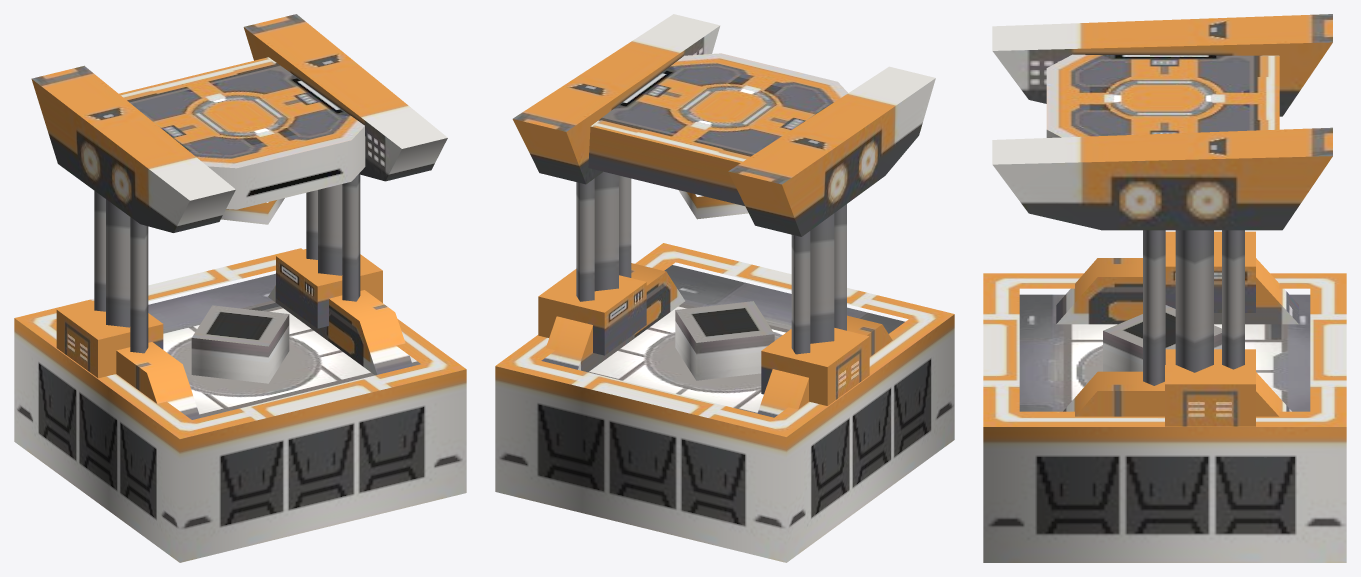
3 views of the same model, side by side, from view 1: azimuth 30°, elevation 25°; view 2: azimuth 150°, elevation 25°; view 3: azimuth 270°, elevation 25° (orthographic). The views are drawn at different scales.
Visible parts, largest first — view 1: assembler-mk-1-lod2; view 2: assembler-mk-1-lod2; view 3: assembler-mk-1-lod2.
Part boxes in pixels (left/top/right/bottom): assembler-mk-1-lod2: left=14, top=14, right=466, bottom=562; assembler-mk-1-lod2: left=495, top=14, right=954, bottom=562; assembler-mk-1-lod2: left=983, top=14, right=1346, bottom=562.
Size of the model in its own units: 4 by 4.87 by 4.
1 material, 1 textured.
